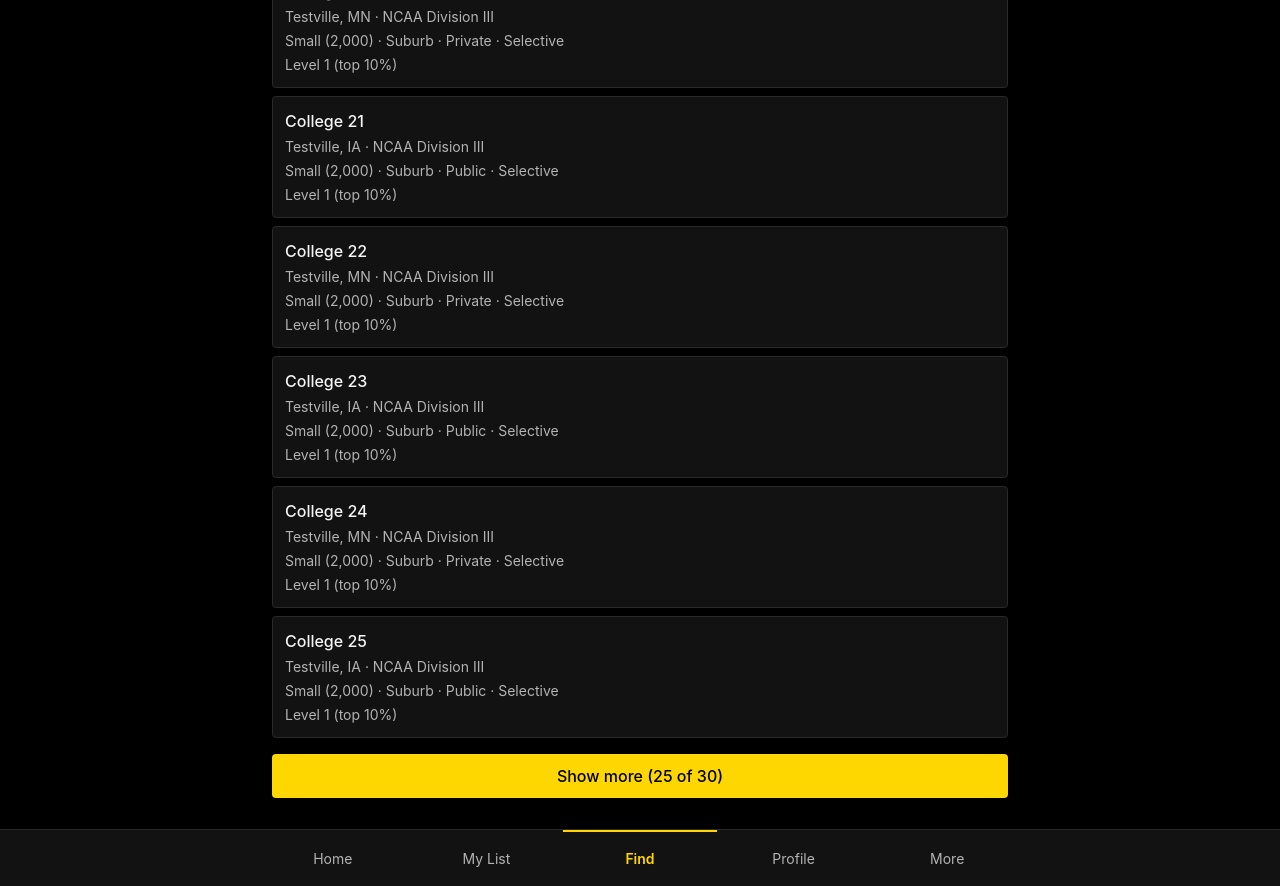
Test: Find Colleges: results › pages through results with Show more
This screenshot has width=1280, height=886.
(page scrolled)
Click the button "Show more (25 of 30)".
click(640, 776)  # box x1=272 y1=754 x2=1008 y2=798
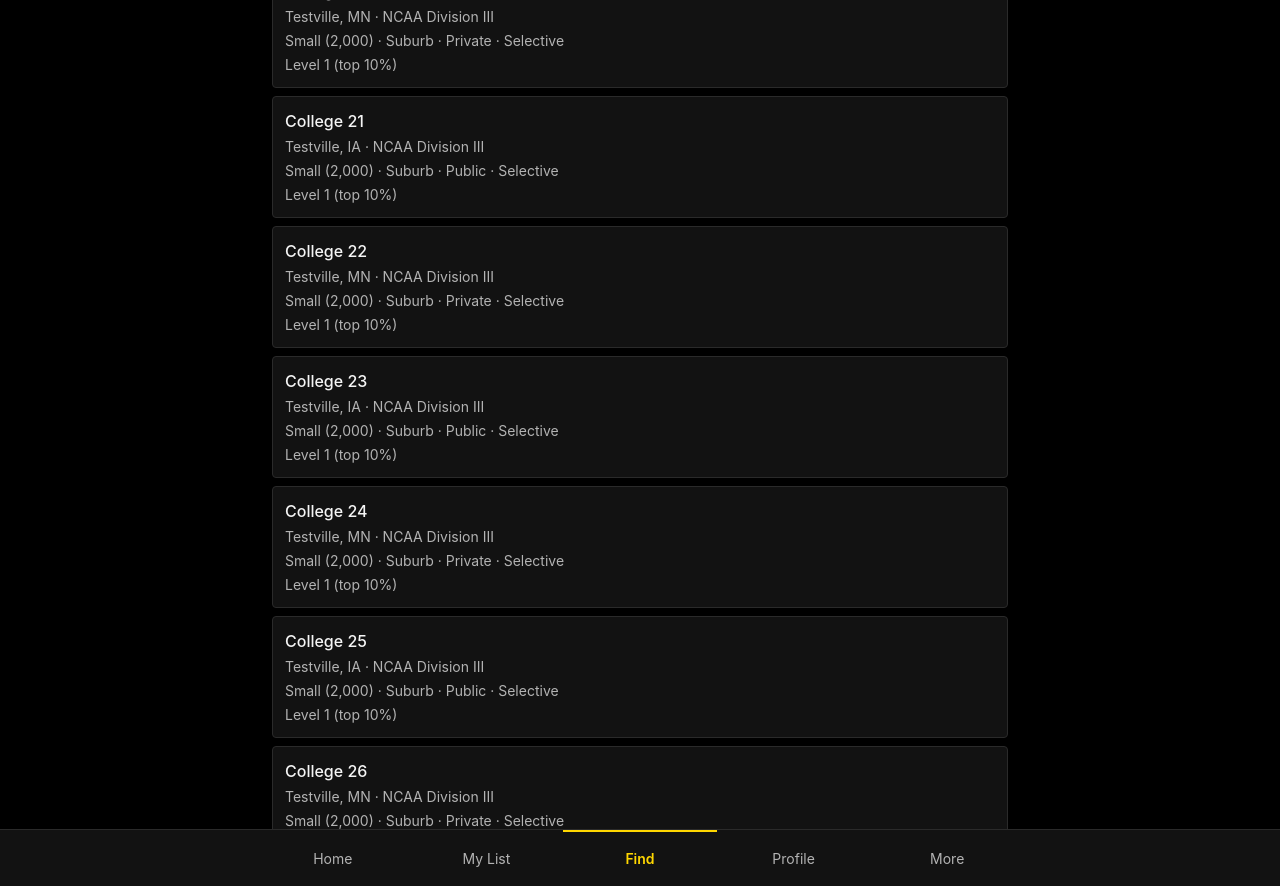
Expected: the button "Show more" is gone
